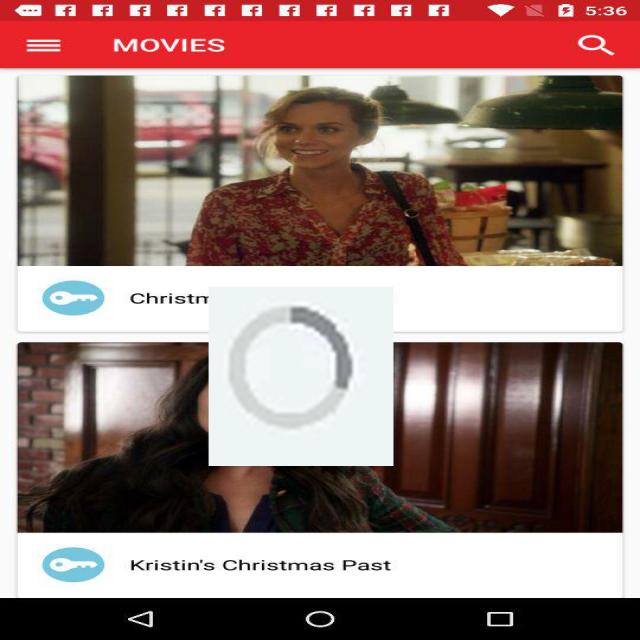misdirection: (208, 287, 394, 466)
